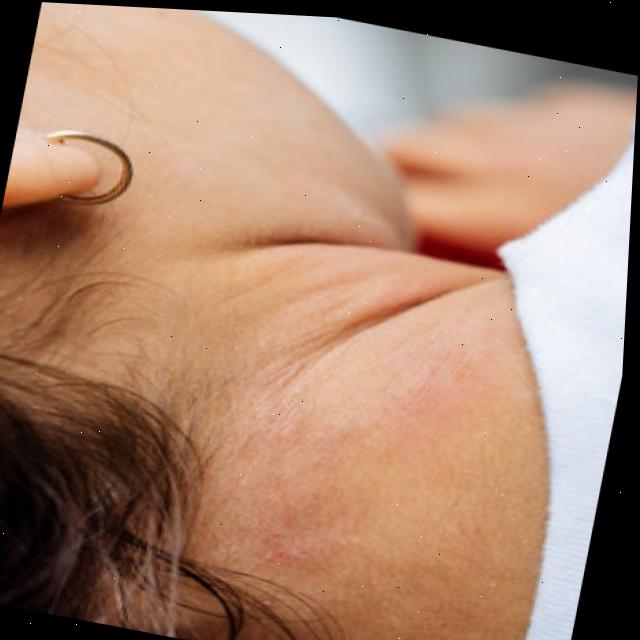Eczema: (232, 452, 372, 620)
